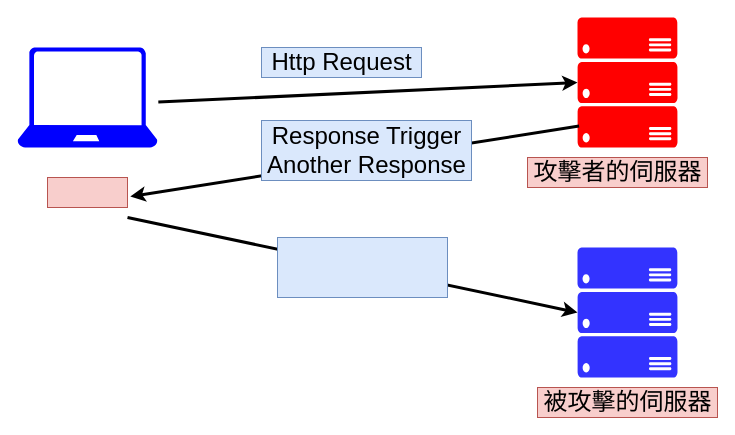
The diagram is 735 pixels wide and 435 high, and some of its shapes have lost their labels. The shapes that lost their labels are listed below. From the top down, each one's centre as x and y in pixels, then its label:
(x=87, y=192): Client
(x=362, y=267): Authenticated Http Response
